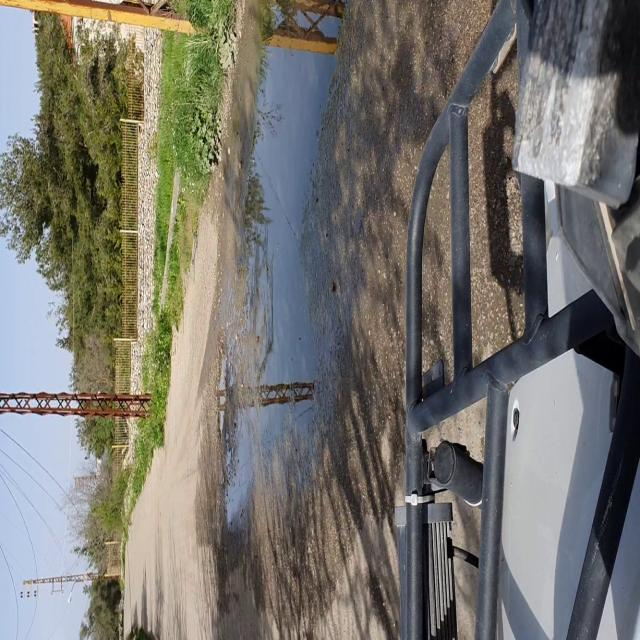Pothole: (210, 341, 230, 444)
